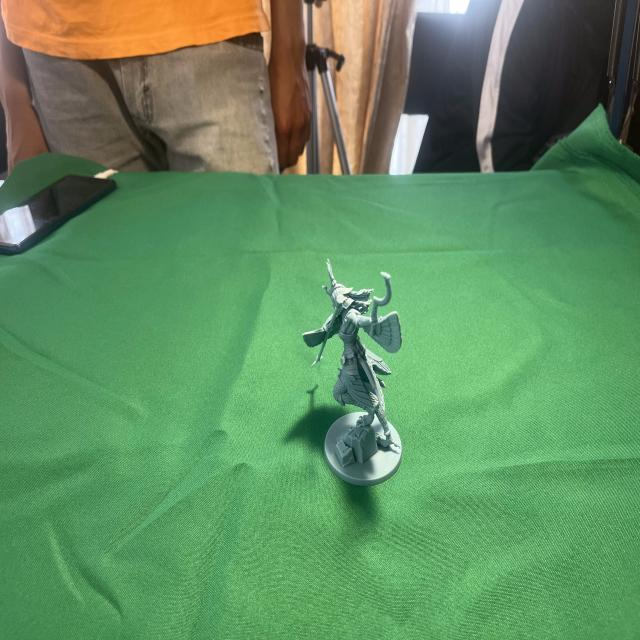isis: (292, 240, 419, 502)
